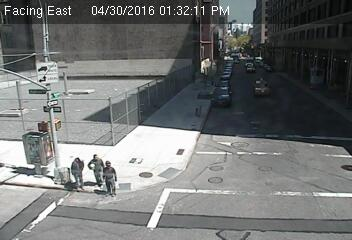neg: (277, 92, 309, 134), (159, 133, 184, 166), (216, 165, 241, 198), (243, 77, 267, 108), (271, 166, 291, 193), (200, 80, 218, 105)
pos: (101, 158, 130, 197), (56, 154, 85, 192), (81, 151, 105, 184)
